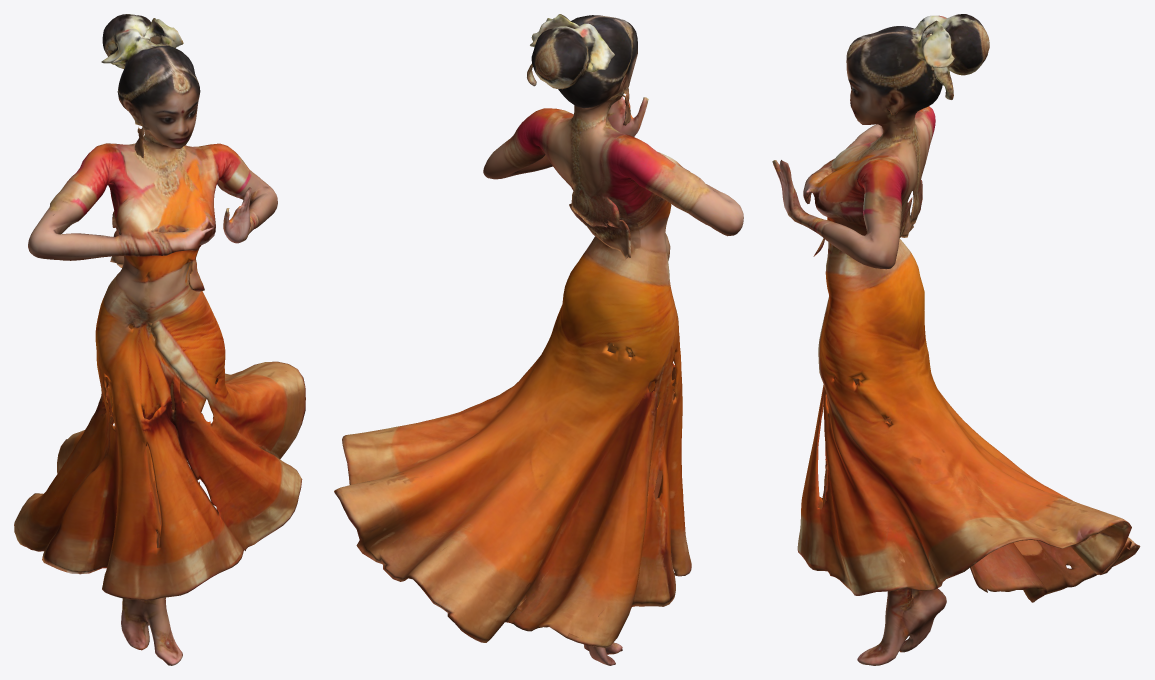
The picture shows the model from 3 angles, left to right: view 1: azimuth 30°, elevation 25°; view 2: azimuth 150°, elevation 25°; view 3: azimuth 270°, elevation 25°; orthographic projection. The views are drawn at different scales.
Size of the model in its own units: 1.09 by 2 by 1.02.
Materials: 1 (1 with a texture image).
